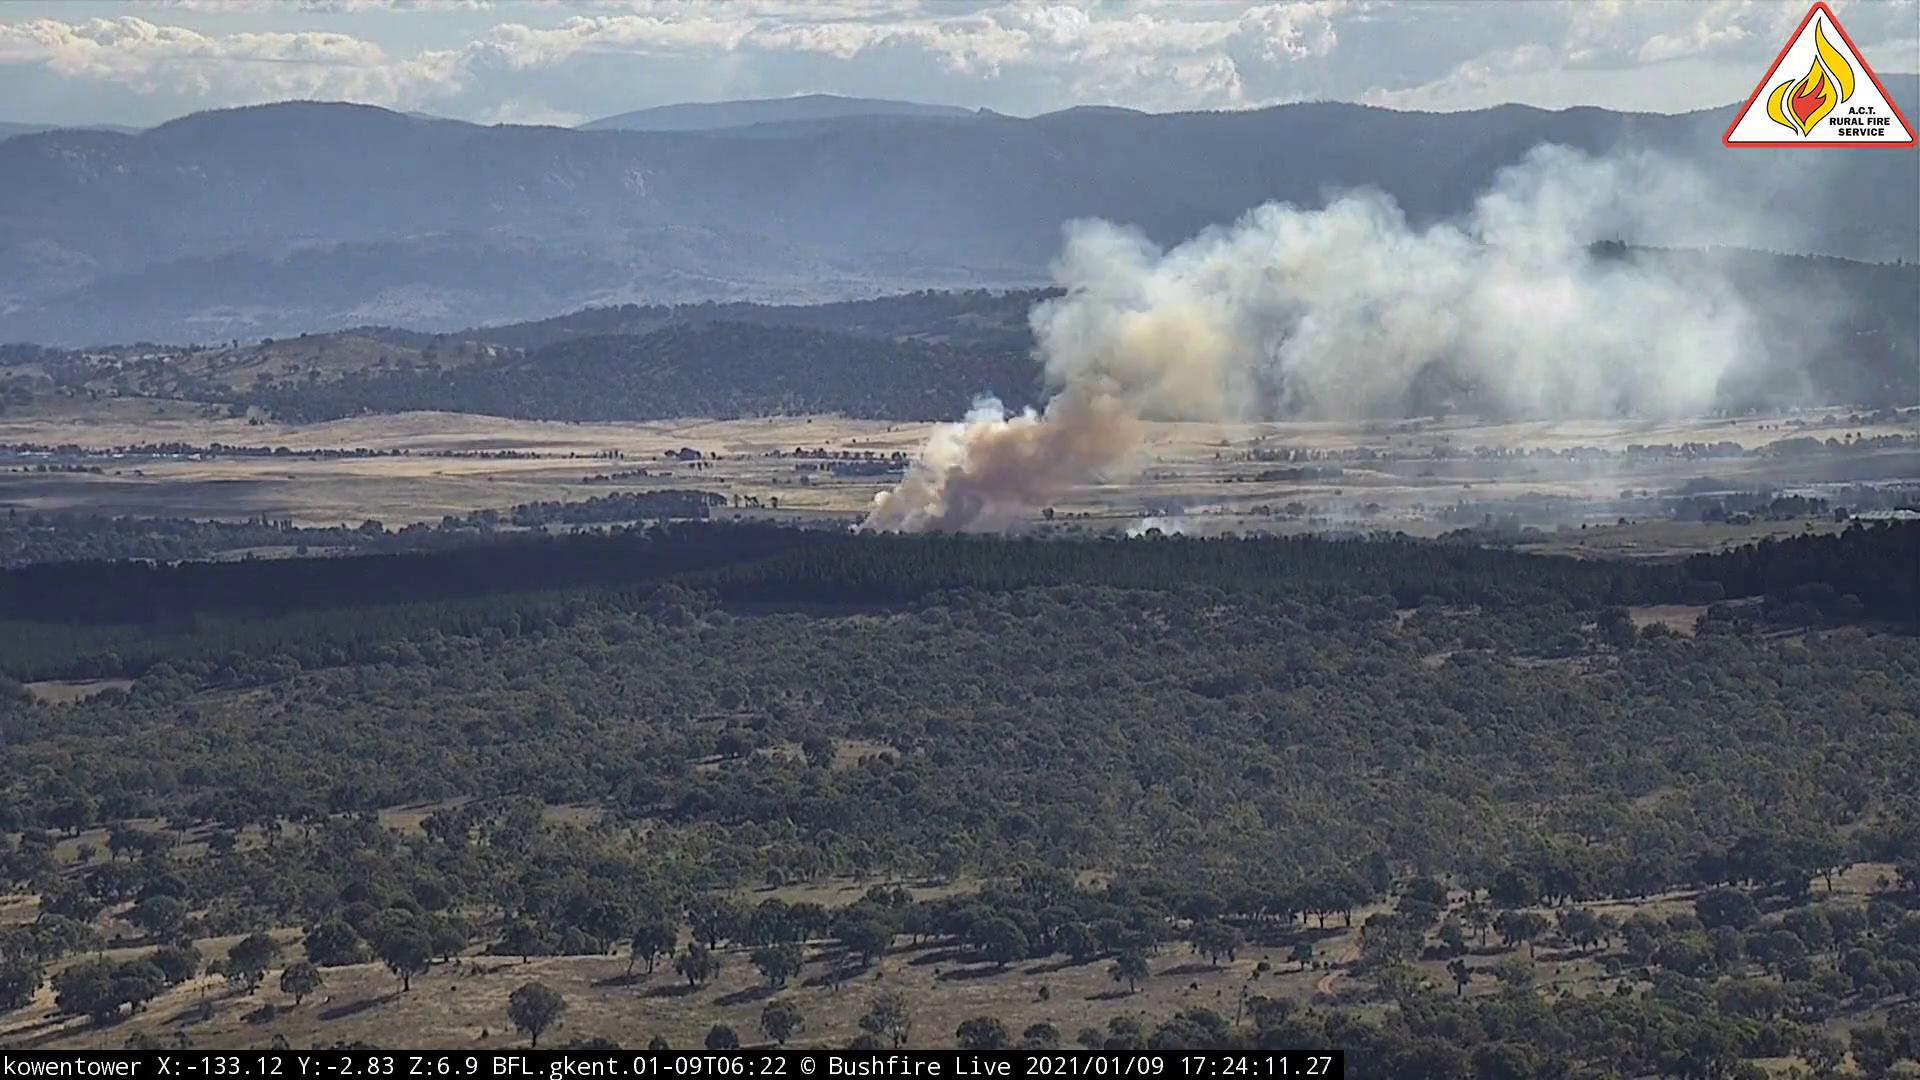Smoke: (837, 160, 1822, 555)
